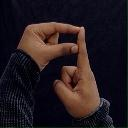hand: (54, 27, 102, 119), (16, 21, 82, 71)
